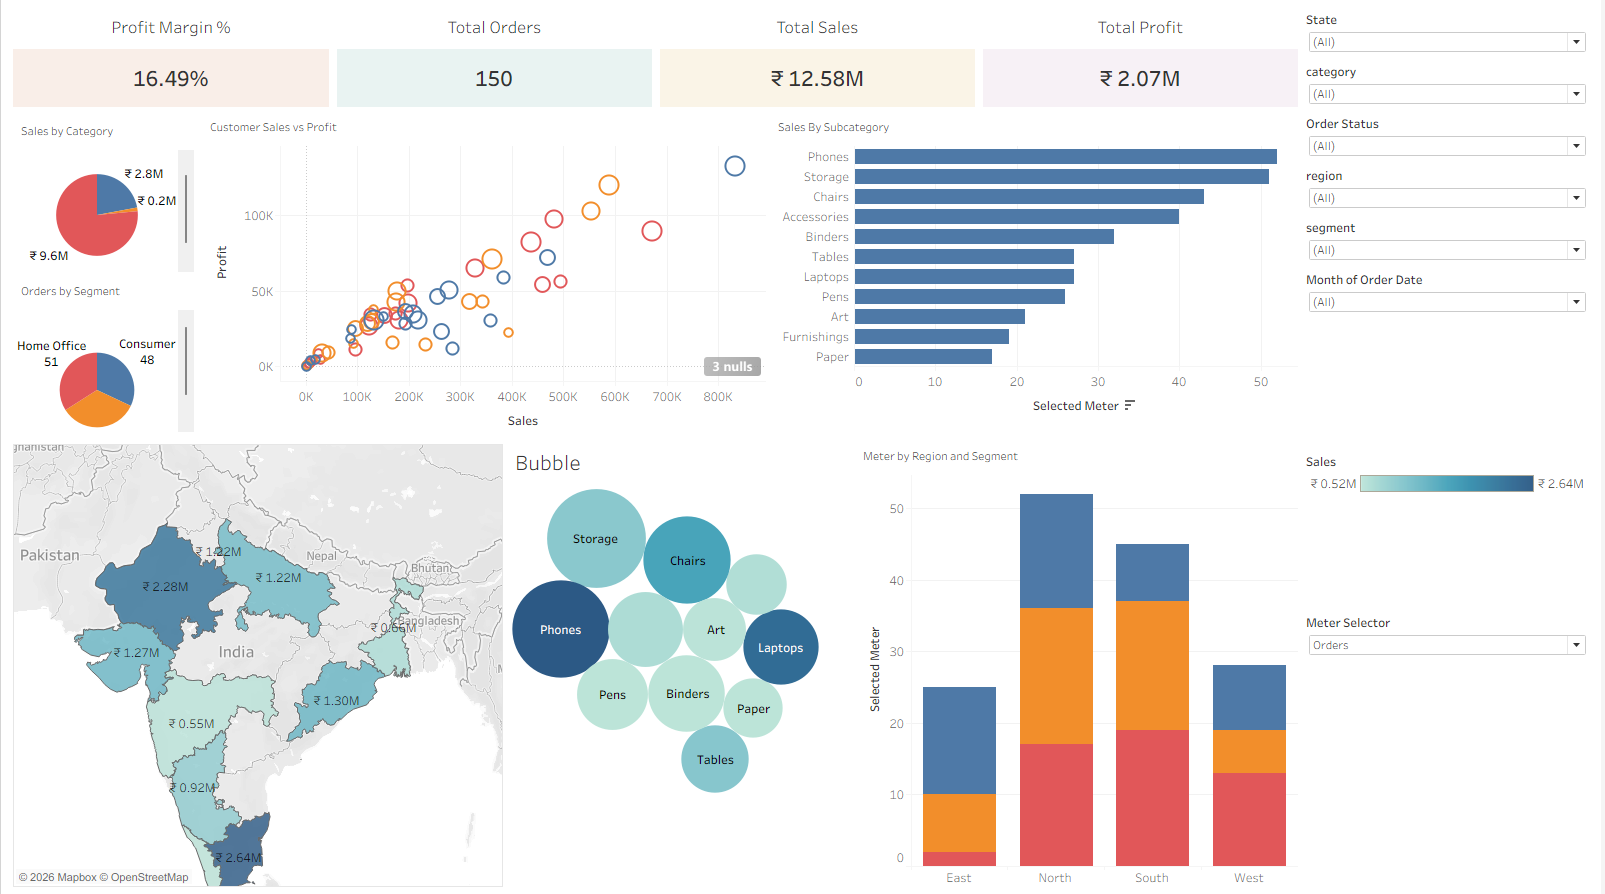

Layout of this report page (visuals, bound fields, positions):
{"tool":"tableau","page":{"name":"Sales Performance","canvas":[1600,900],"ordinal":0},"visuals":[{"type":"worksheet","title":"KPI - Profit Margin","mark":"Automatic","box":[8,8,324,104]},{"type":"worksheet","title":"KPI - Orders","mark":"Automatic","box":[332,8,323,104]},{"type":"worksheet","title":"KPI - Total Sales","mark":"Automatic","box":[655,8,323,104]},{"type":"worksheet","title":"KPI - Total Profit","mark":"Automatic","box":[978,8,323,104]},{"type":"filter","title":"Customer Sales vs Profit","param":"[federated.15o31451ywobr41h5fkt01c70afe].[none:state:nk]","box":[1301,8,291,52]},{"type":"filter","title":"Customer Sales vs Profit","param":"[federated.15o31451ywobr41h5fkt01c70afe].[none:category:nk]","box":[1301,60,291,52]},{"type":"worksheet","title":"Customer Sales vs Profit","mark":"Automatic","rows":["Calculation_1670996746293252"],"cols":["Calculation_1670996745297920"],"box":[201,112,568,329]},{"type":"worksheet","title":"Sales By Subcategory","mark":"Automatic","rows":["sub_category"],"cols":["Calculation_1670996750618638"],"box":[769,112,532,329]},{"type":"filter","title":"Customer Sales vs Profit","param":"[federated.15o31451ywobr41h5fkt01c70afe].[none:order_status:nk]","box":[1301,112,291,52]},{"type":"worksheet","title":"Sales by Category","mark":"Pie","box":[12,116,185,160.5]},{"type":"filter","title":"Customer Sales vs Profit","param":"[federated.15o31451ywobr41h5fkt01c70afe].[none:region:nk]","box":[1301,164,291,52]},{"type":"filter","title":"Customer Sales vs Profit","param":"[federated.15o31451ywobr41h5fkt01c70afe].[none:segment:nk]","box":[1301,216,291,52]},{"type":"filter","title":"Customer Sales vs Profit","param":"[federated.15o31451ywobr41h5fkt01c70afe].[mn:order_date:ok]","box":[1301,268,291,182]},{"type":"worksheet","title":"Orders by Segment","mark":"Pie","box":[12,276.5,185,160.5]},{"type":"worksheet","title":"Sales by State","mark":"Automatic","box":[8,441,498,451]},{"type":"worksheet","title":"Bubble","mark":"Circle","box":[506,441,316,451]},{"type":"worksheet","title":"Meter by Region and Segment","mark":"Automatic","rows":["Calculation_1670996750618638"],"cols":["region"],"box":[854,441,447,451]},{"type":"legend","title":"Sales by State","param":"[federated.15o31451ywobr41h5fkt01c70afe].[sum:Calculation_1670996745297920:qk]","box":[1301,450,291,161]},{"type":"parameter","param":"[Parameters].[Parameter 1]","box":[1301,611,291,52]}]}

Visuals, with their boxes in screenshot pixels (x1, y1, x2, y2), scaled from the page's 1600x900 canvas onto the 1605x894 screenshot:
"KPI - Profit Margin" worksheet: region(8, 8, 333, 111)
"KPI - Orders" worksheet: region(333, 8, 657, 111)
"KPI - Total Sales" worksheet: region(657, 8, 981, 111)
"KPI - Total Profit" worksheet: region(981, 8, 1305, 111)
"Customer Sales vs Profit" filter: region(1305, 8, 1597, 60)
"Customer Sales vs Profit" filter: region(1305, 60, 1597, 111)
"Customer Sales vs Profit" worksheet: region(202, 111, 771, 438)
"Sales By Subcategory" worksheet: region(771, 111, 1305, 438)
"Customer Sales vs Profit" filter: region(1305, 111, 1597, 163)
"Sales by Category" worksheet (Pie marks): region(12, 115, 198, 275)
"Customer Sales vs Profit" filter: region(1305, 163, 1597, 215)
"Customer Sales vs Profit" filter: region(1305, 215, 1597, 266)
"Customer Sales vs Profit" filter: region(1305, 266, 1597, 447)
"Orders by Segment" worksheet (Pie marks): region(12, 275, 198, 434)
"Sales by State" worksheet: region(8, 438, 508, 886)
"Bubble" worksheet (Circle marks): region(508, 438, 825, 886)
"Meter by Region and Segment" worksheet: region(857, 438, 1305, 886)
"Sales by State" legend: region(1305, 447, 1597, 607)
parameter: region(1305, 607, 1597, 659)
